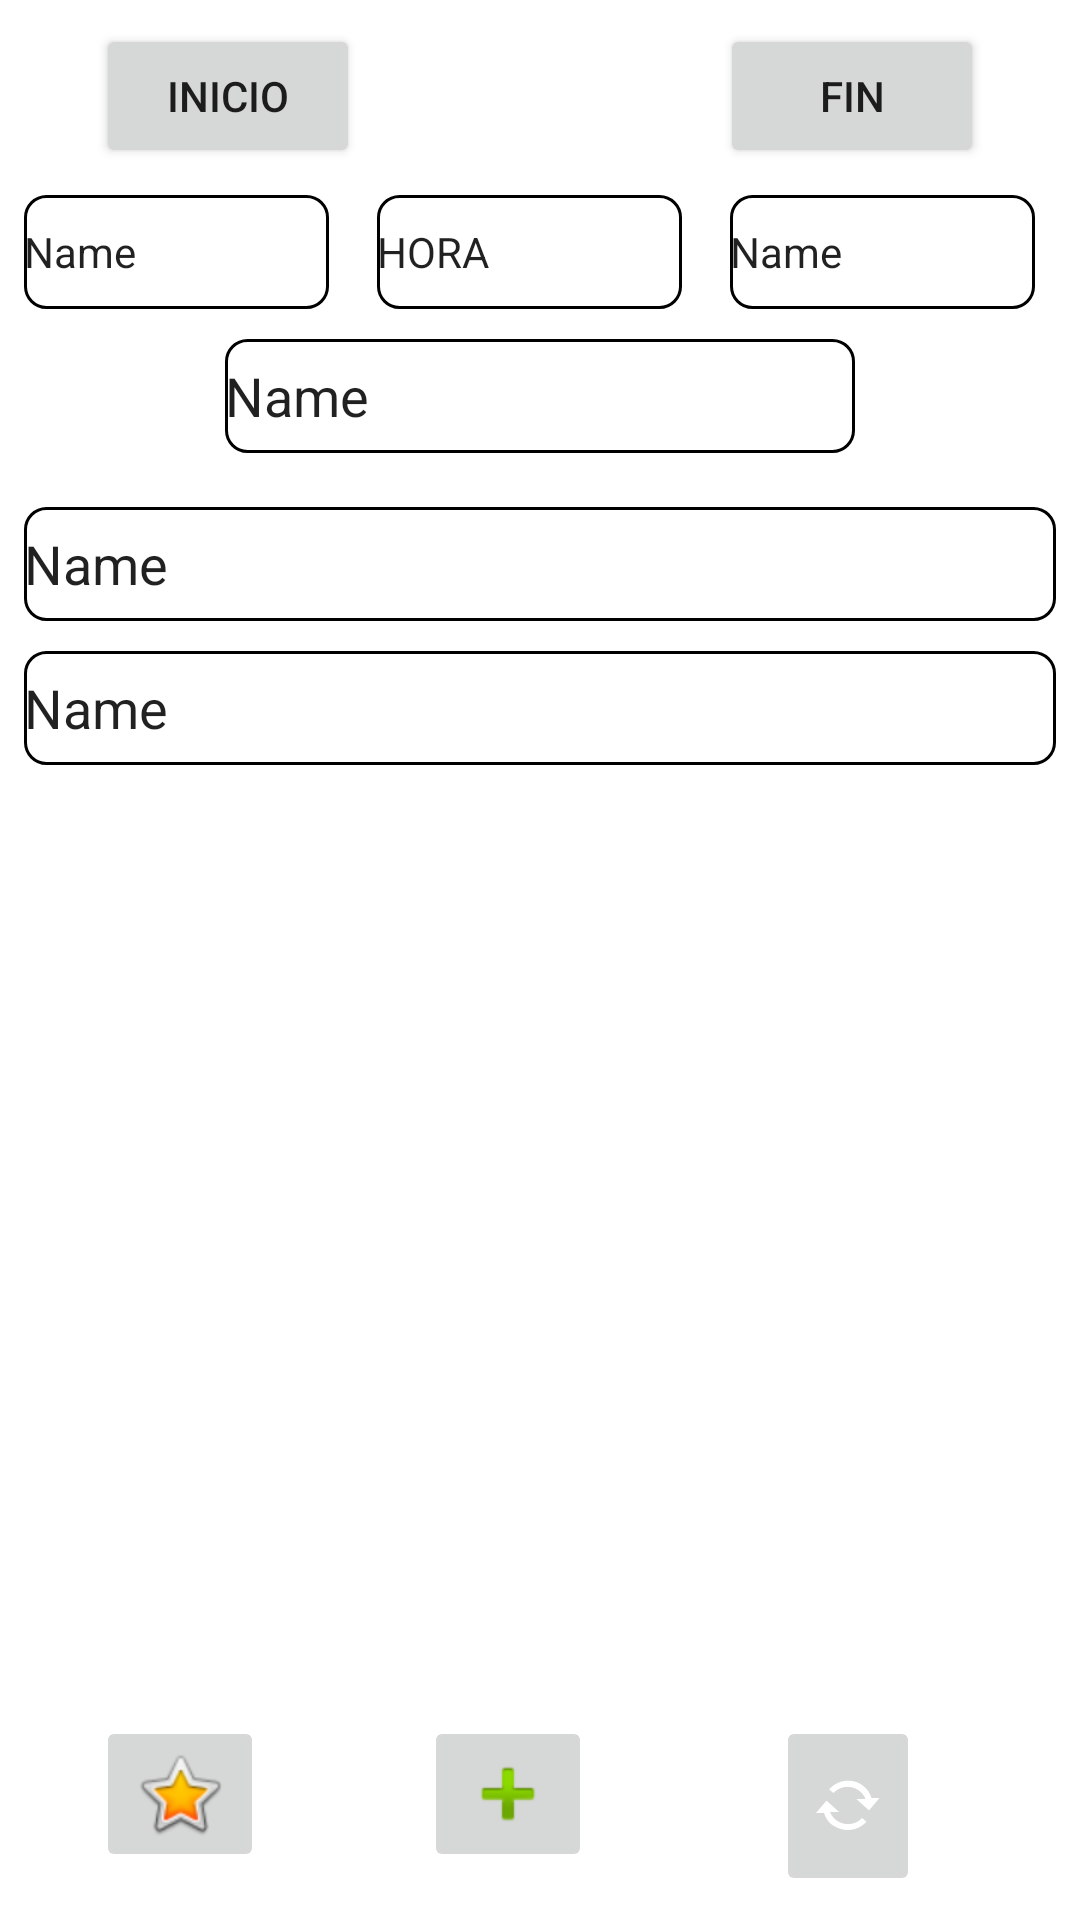

Where to tap for icons on this 1080x1920 app screen, as point (x, y):
add: point (508, 1794)
star on: point (180, 1794)
sync: point (848, 1806)
